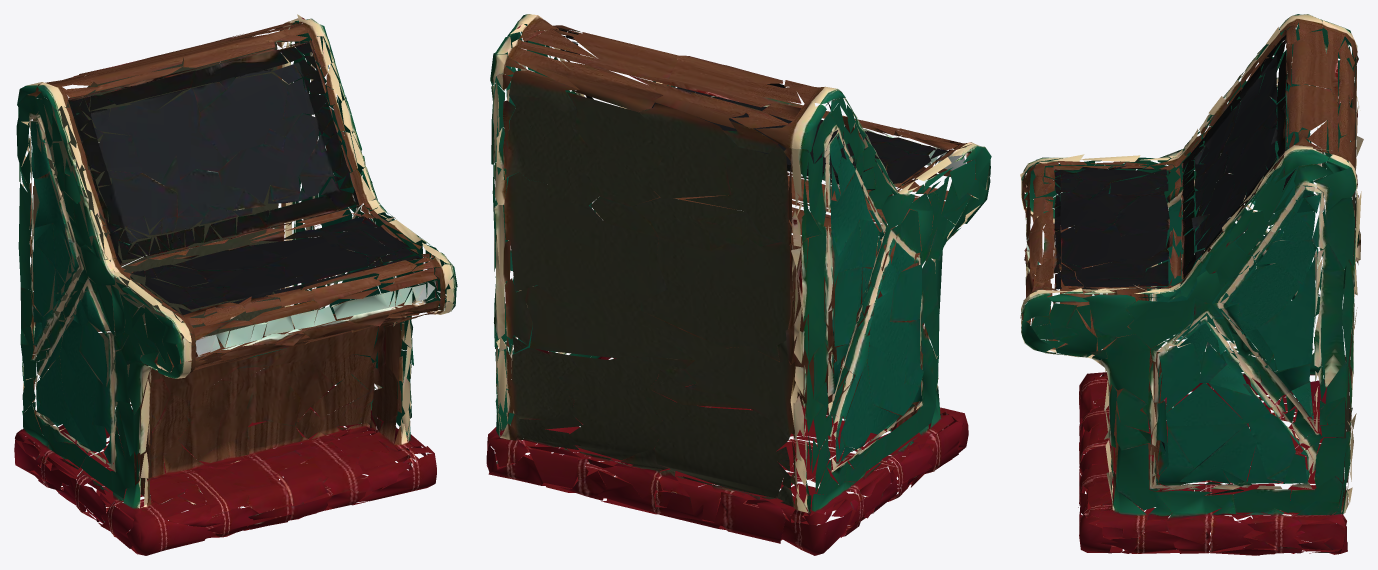
The model's file is console.glb.
The picture shows the model from 3 angles, left to right: view 1: azimuth 30°, elevation 25°; view 2: azimuth 150°, elevation 25°; view 3: azimuth 270°, elevation 25°; orthographic projection. The views are drawn at different scales.
Parts seen in each view (by area): view 1: Mesh_0; view 2: Mesh_0; view 3: Mesh_0.
Boxes of the visible parts, box(x1,y1,x2,y2) form: Mesh_0: box(14, 14, 457, 555); Mesh_0: box(486, 14, 991, 555); Mesh_0: box(1020, 14, 1363, 555).
Size of the model in its own units: 1.2 by 1.5 by 1.15.
Materials: 1 (1 with a texture image).
